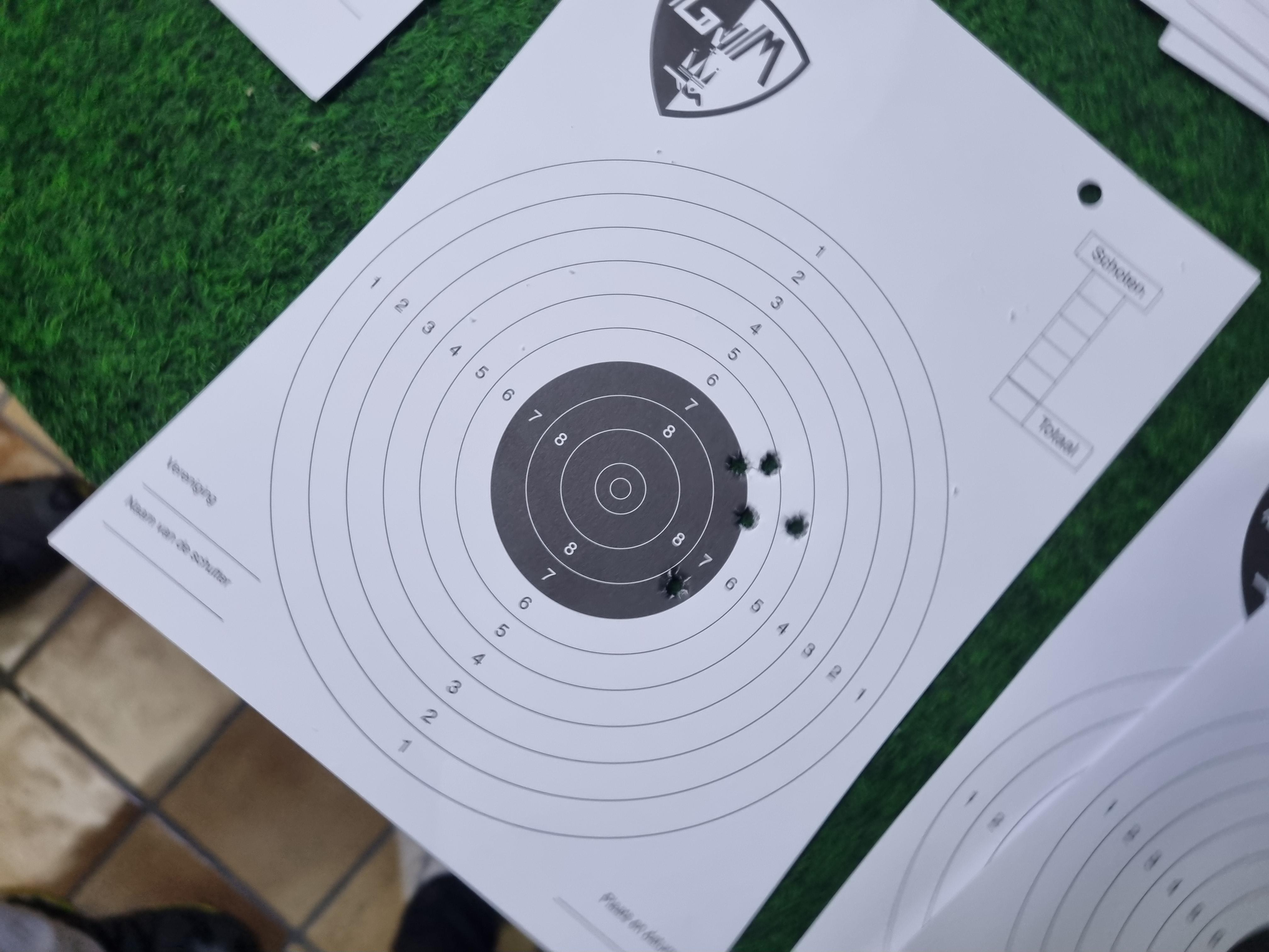hole: (468, 494, 515, 519), (632, 544, 669, 565), (549, 588, 589, 607), (633, 568, 670, 588), (561, 550, 596, 571)
